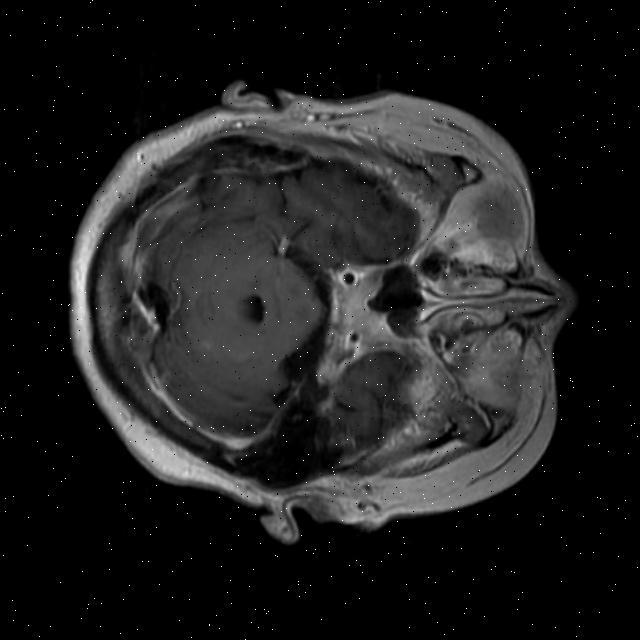Pituitary: (327, 280, 399, 338)
